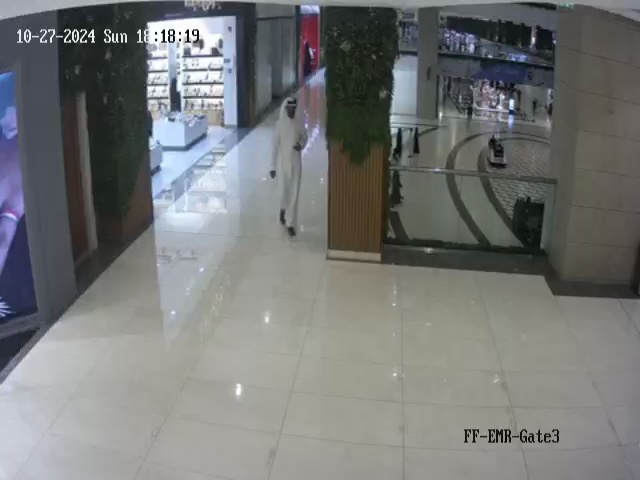female: (389, 164, 405, 209), (393, 123, 405, 158), (413, 124, 424, 156)
male: (265, 90, 309, 248), (406, 124, 414, 162)
